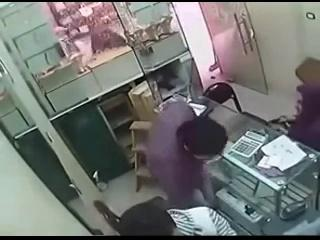Normal: (144, 96, 226, 208), (93, 196, 179, 236), (203, 82, 243, 113), (230, 128, 268, 158), (280, 200, 308, 221)
